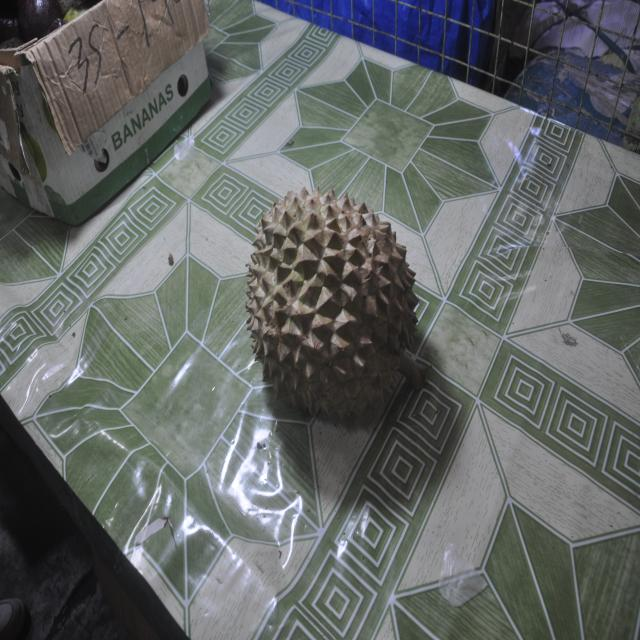mature: (246, 188, 427, 425)
